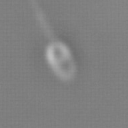normal: (24, 1, 57, 42)
